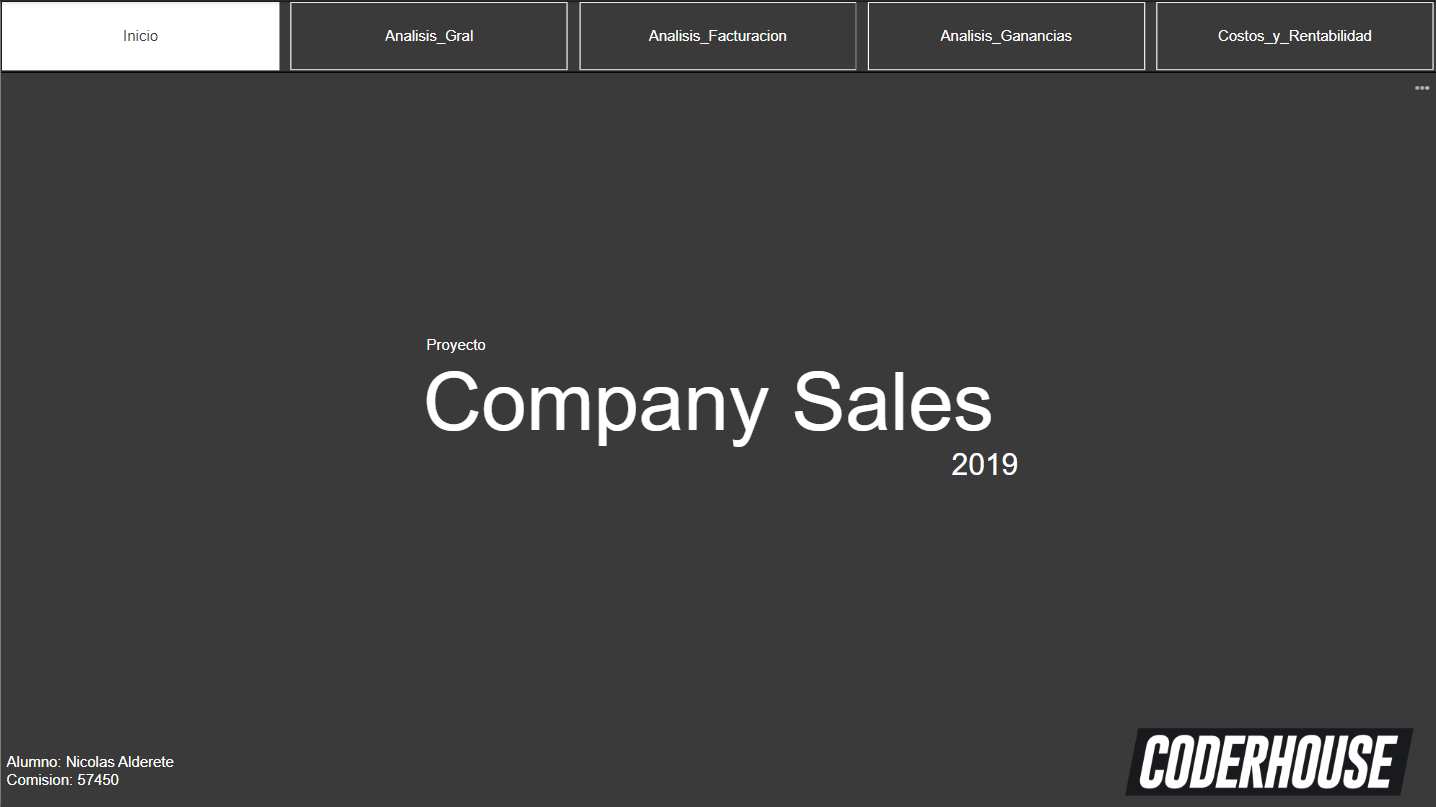

The page's visual inventory and layout, read from the dashboard file:
{"tool":"powerbi","page":{"name":"Inicio","canvas":[1280,720],"ordinal":0},"visuals":[{"type":"textbox","box":[0,311.3,1280,103.8],"z":0},{"type":"textbox","box":[374,294.4,79.6,33.8],"z":1000},{"type":"image","box":[996.5,635.8,266.6,84.5],"z":2000},{"type":"textbox","box":[0,666,179.8,45.8],"z":3000},{"type":"pageNavigator","box":[0,0,1280,63.9],"z":4000},{"type":"textbox","box":[842.1,393.3,96.5,43.4],"z":5000}]}

Visuals, with their boxes in screenshot pixels (x1, y1, x2, y2), scaled from the page's 1280x720 canvas onto the 1436x807 screenshot:
textbox: l=0, t=349, r=1435, b=465
textbox: l=420, t=330, r=509, b=368
image: l=1118, t=713, r=1417, b=806
textbox: l=0, t=746, r=202, b=798
pageNavigator: l=0, t=0, r=1435, b=72
textbox: l=945, t=441, r=1053, b=489
